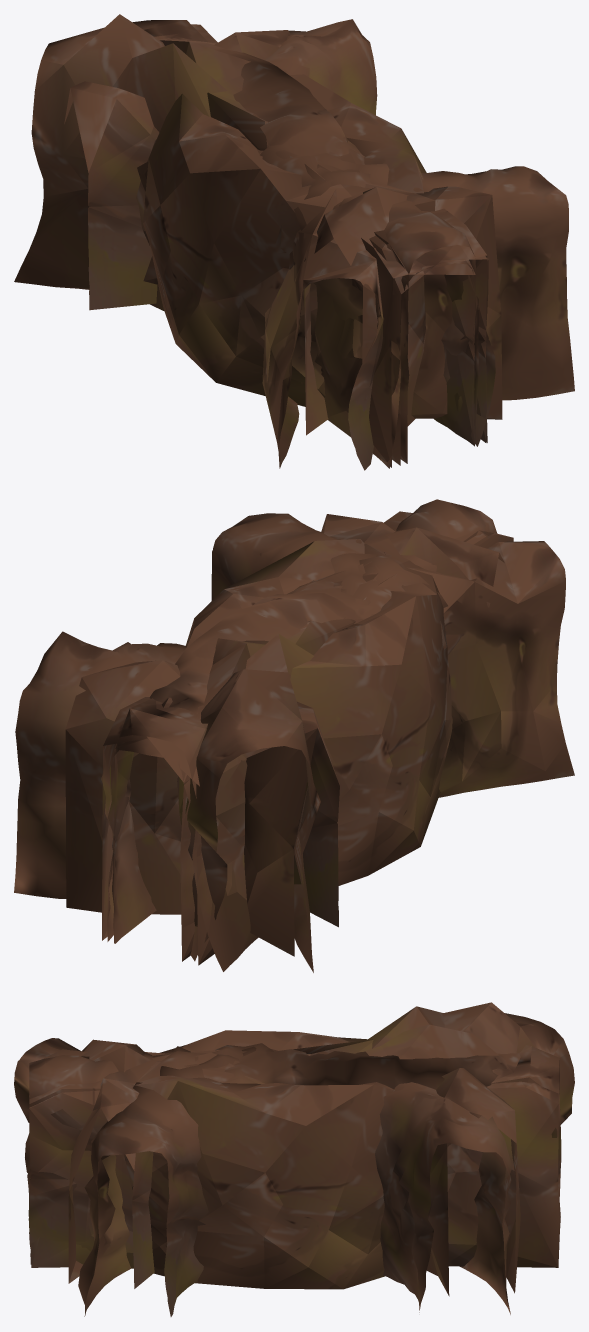
File: Cave_halls_at_origin.FBX
3 views of the same model, one above another, from view 1: azimuth 30°, elevation 25°; view 2: azimuth 150°, elevation 25°; view 3: azimuth 270°, elevation 25° (orthographic). The views are drawn at different scales.
Visible parts, largest first — view 1: CD_Cave_hallpiece_U_Bend, CD_Cave_hallpiece_normal_base001, CD_Cave_hallpiece_U_Bend001, CD_Cave_hallpiece_normal_base003, CD_Cave_hallpiece_normal002, CD_Cave_hallpiece_wider_base003, CD_Cave_hallpiece_normal_base002, CD_Cave_hallpiece_short, CD_Cave_hallpiece_normal_base, CD_Cave_hallpiece_short001; view 2: CD_Cave_hallpiece_U_Bend, CD_Cave_hallpiece_normal_base001, CD_Cave_hallpiece_U_Bend001, CD_Cave_hallpiece_normal_base003, CD_Cave_hallpiece_normal002, CD_Cave_hallpiece_normal_base002, CD_Cave_hallpiece_wider_base003, CD_Cave_hallpiece_short, CD_Cave_hallpiece_normal_base; view 3: CD_Cave_hallpiece_U_Bend001, CD_Cave_hallpiece_normal_base003, CD_Cave_hallpiece_wider_base003, CD_Cave_hallpiece_U_Bend, CD_Cave_hallpiece_normal_base002, CD_Cave_hallpiece_normal002, CD_Cave_hallpiece_normal_base001, CD_Cave_hallpiece_short001, CD_Cave_hallpiece_short.
Boxes of the visible parts, x1,y1,x2,y2 form: CD_Cave_hallpiece_U_Bend: [143, 30, 502, 419]; CD_Cave_hallpiece_normal_base001: [14, 14, 383, 470]; CD_Cave_hallpiece_U_Bend001: [64, 74, 426, 435]; CD_Cave_hallpiece_normal_base003: [264, 19, 574, 400]; CD_Cave_hallpiece_normal002: [159, 38, 478, 452]; CD_Cave_hallpiece_wider_base003: [154, 24, 487, 467]; CD_Cave_hallpiece_normal_base002: [132, 20, 495, 468]; CD_Cave_hallpiece_short: [325, 169, 477, 463]; CD_Cave_hallpiece_normal_base: [175, 36, 475, 463]; CD_Cave_hallpiece_short001: [314, 136, 488, 465]; CD_Cave_hallpiece_U_Bend: [65, 514, 452, 914]; CD_Cave_hallpiece_normal_base001: [177, 541, 574, 972]; CD_Cave_hallpiece_U_Bend001: [185, 527, 504, 956]; CD_Cave_hallpiece_normal_base003: [14, 513, 377, 898]; CD_Cave_hallpiece_normal002: [101, 561, 464, 960]; CD_Cave_hallpiece_normal_base002: [107, 618, 355, 971]; CD_Cave_hallpiece_wider_base003: [102, 511, 513, 965]; CD_Cave_hallpiece_short: [359, 499, 497, 575]; CD_Cave_hallpiece_normal_base: [114, 530, 493, 961]; CD_Cave_hallpiece_U_Bend001: [81, 1039, 394, 1289]; CD_Cave_hallpiece_normal_base003: [78, 1046, 512, 1316]; CD_Cave_hallpiece_wider_base003: [29, 1048, 558, 1267]; CD_Cave_hallpiece_U_Bend: [68, 1030, 520, 1296]; CD_Cave_hallpiece_normal_base002: [28, 1024, 560, 1268]; CD_Cave_hallpiece_normal002: [25, 1043, 561, 1258]; CD_Cave_hallpiece_normal_base001: [14, 1002, 574, 1124]; CD_Cave_hallpiece_short001: [29, 1052, 264, 1267]; CD_Cave_hallpiece_short: [29, 1051, 201, 1099].
Bounding box in the file's own units: 8 × 6.48 × 14.58.
